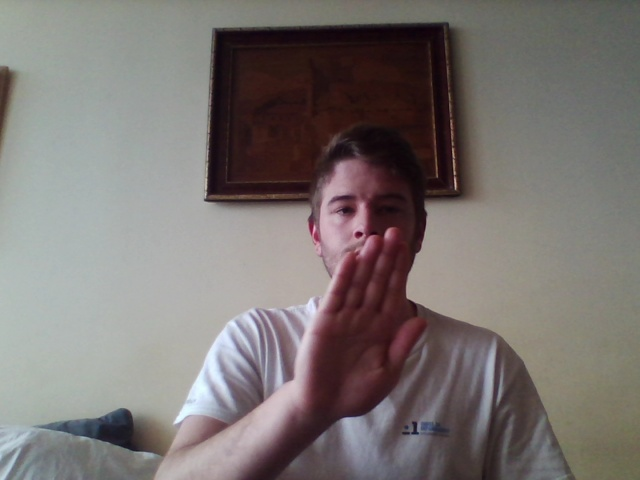pozdrav: (289, 227, 422, 422)
